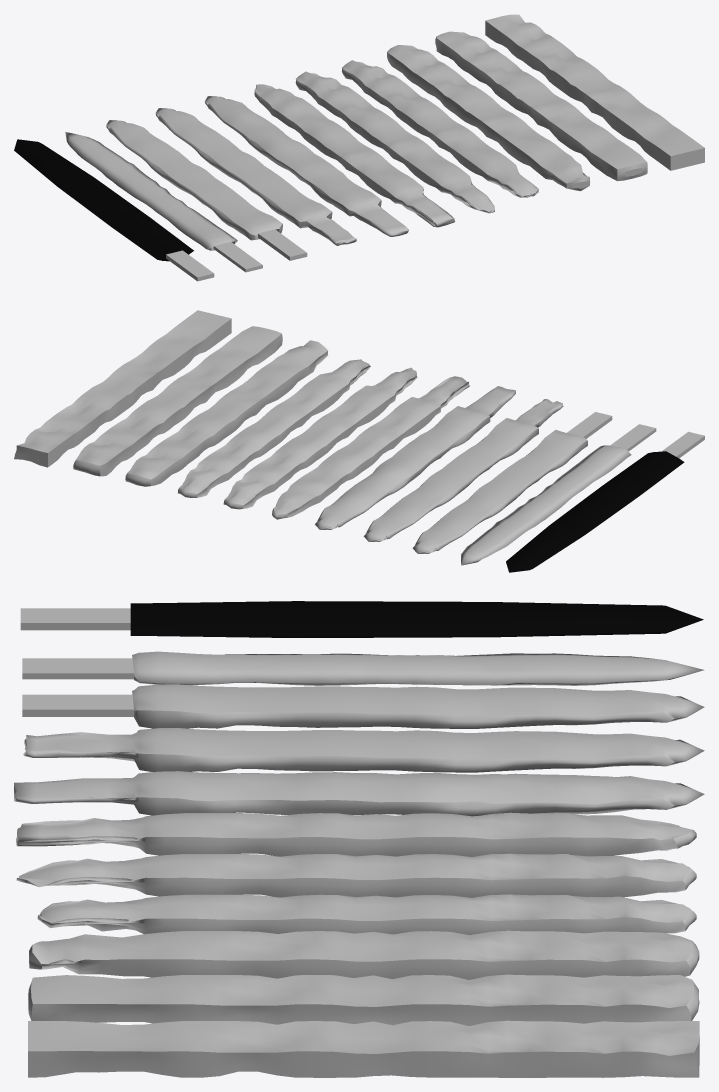
The model's file is Swords.fbx.
The picture shows the model from 3 angles, top to bottom: view 1: azimuth 30°, elevation 25°; view 2: azimuth 150°, elevation 25°; view 3: azimuth 270°, elevation 25°; orthographic projection. The views are drawn at different scales.
Parts seen in each view (by area): view 1: pCube2.001, pCube2.002, pCube2.005, pCube2.007, pCube2.006, pCube2.003, pCube2.004, pCube1, pCube3, pCube2.008, pCube3.002; view 2: pCube2.001, pCube2.002, pCube2.005, pCube2.007, pCube2.003, pCube2.006, pCube2.004, pCube2.008, pCube3, pCube1, pCube3.002; view 3: pCube2.001, pCube2.002, pCube2.005, pCube2.007, pCube2.006, pCube2.003, pCube2.008, pCube3, pCube2.004, pCube1, pCube3.002.
Boxes of the visible parts, x1,y1,x2,y2 form: pCube2.001: (485,14,704,170); pCube2.002: (435,31,647,181); pCube2.005: (387,45,590,191); pCube2.007: (254,84,454,227); pCube2.006: (295,71,494,213); pCube2.003: (204,96,408,236); pCube2.004: (342,60,538,197); pCube1: (14,139,214,281); pCube3: (106,120,307,260); pCube2.008: (155,108,356,245); pCube3.002: (65,132,262,272); pCube2.001: (14,310,231,467); pCube2.002: (73,326,282,476); pCube2.005: (125,340,328,486); pCube2.007: (272,376,469,519); pCube2.003: (315,386,515,529); pCube2.006: (223,367,417,509); pCube2.004: (178,359,370,497); pCube2.008: (363,399,563,541); pCube3: (412,412,612,553); pCube1: (506,431,704,572); pCube3.002: (461,424,656,565); pCube2.001: (28,1020,699,1077); pCube2.002: (28,974,699,1025); pCube2.005: (29,930,699,979); pCube2.007: (16,812,696,856); pCube2.006: (16,853,696,897); pCube2.003: (14,771,704,816); pCube2.008: (23,728,704,772); pCube3: (22,684,704,728); pCube2.004: (37,894,696,935); pCube1: (20,601,703,637); pCube3.002: (22,651,704,685).
Size of the model in its own units: 45 by 1.44 by 28.59.
